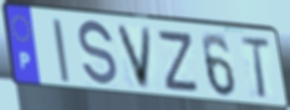6: (200, 31, 238, 99)
I: (50, 17, 72, 85)
S: (77, 18, 120, 90)
T: (238, 36, 273, 102)
V: (113, 22, 154, 93)
Z: (158, 30, 201, 95)
